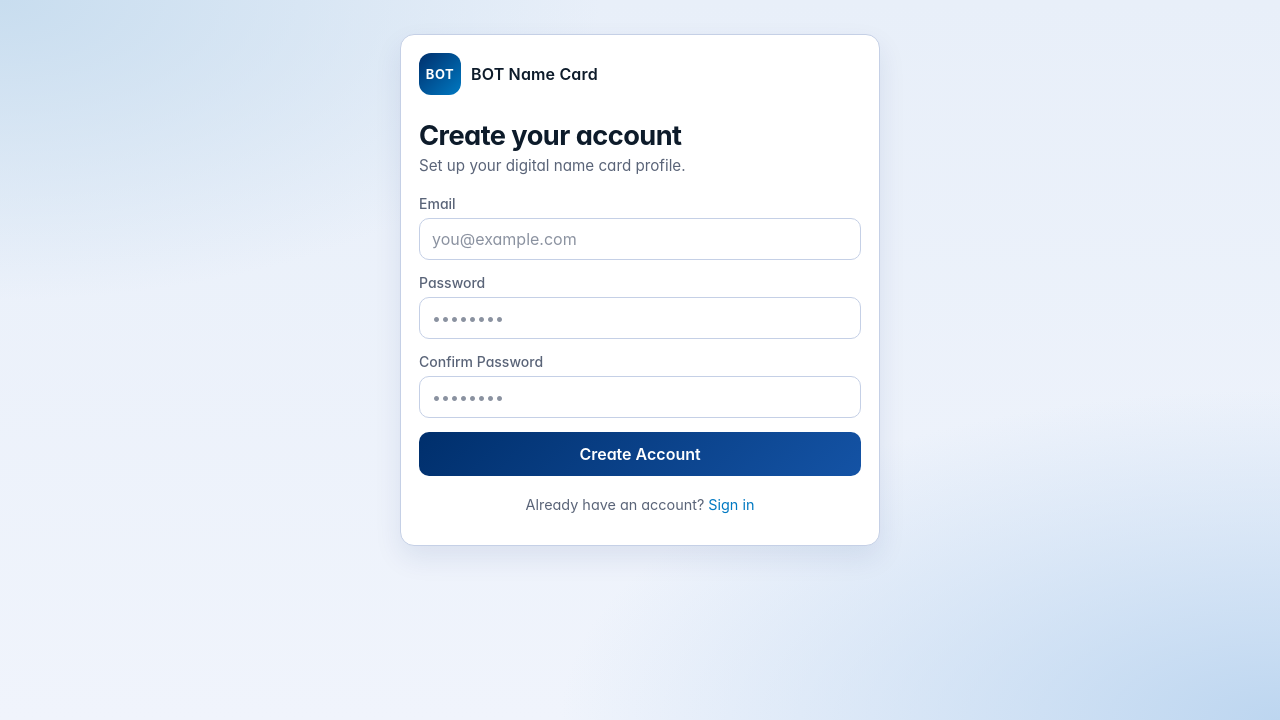
it: RegisterPage › shows error when passwords do not match
The width and height of the screenshot is (1280, 720).
Type "a@b.com" into the field labelled "Email" at (640, 239), box [419,218,861,260]
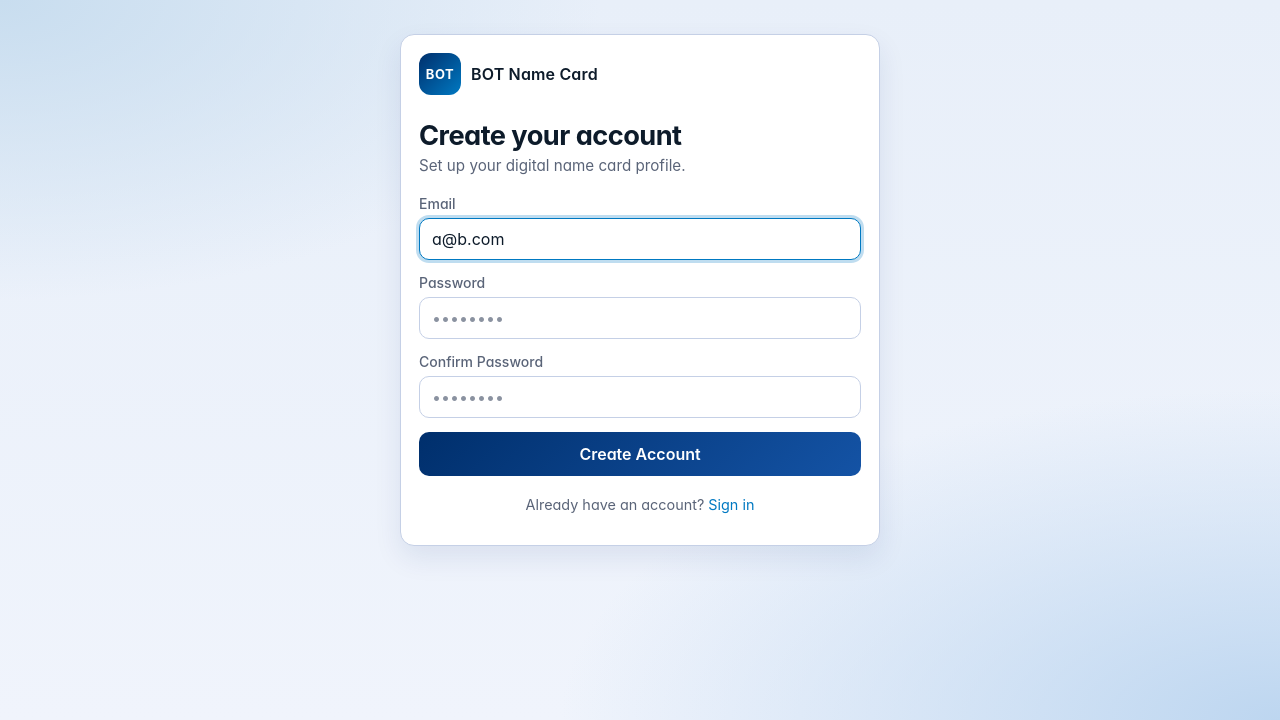
Type "password123" into the password field labelled "Password" at (640, 318), box [419,297,861,339]
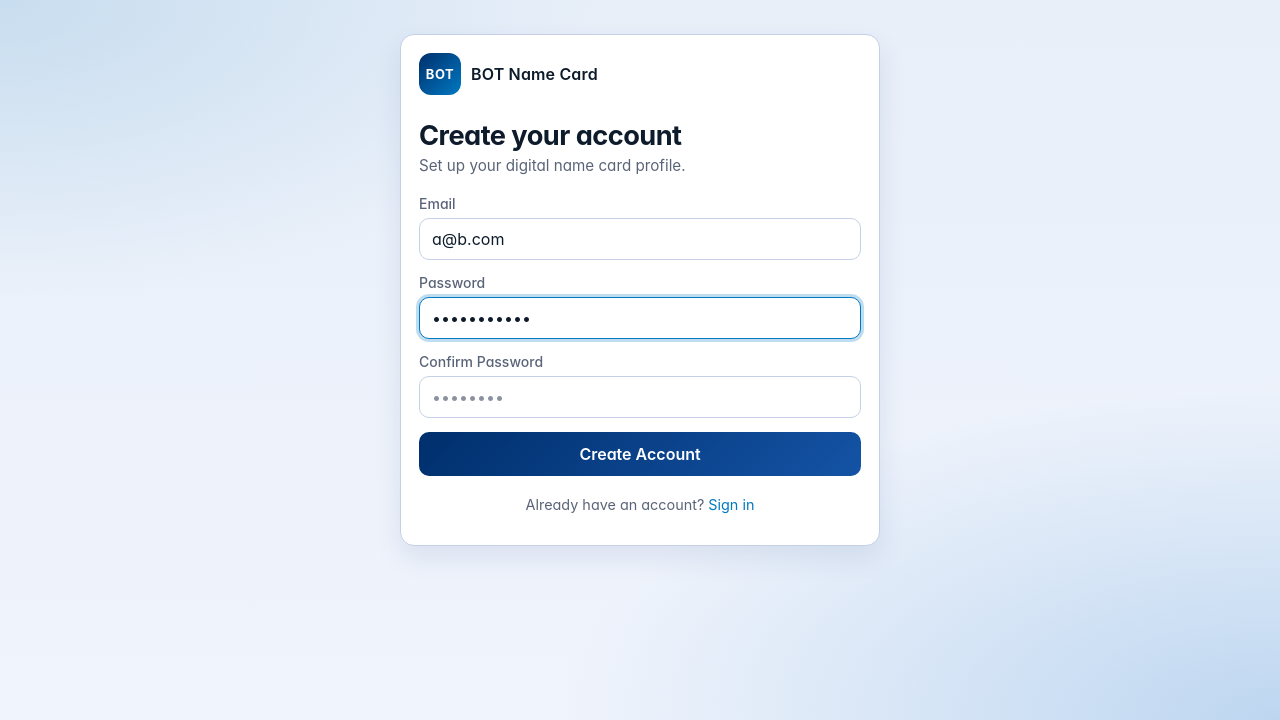
Type "different123" into the password field labelled "Confirm Password" at (640, 397), box [419,376,861,418]
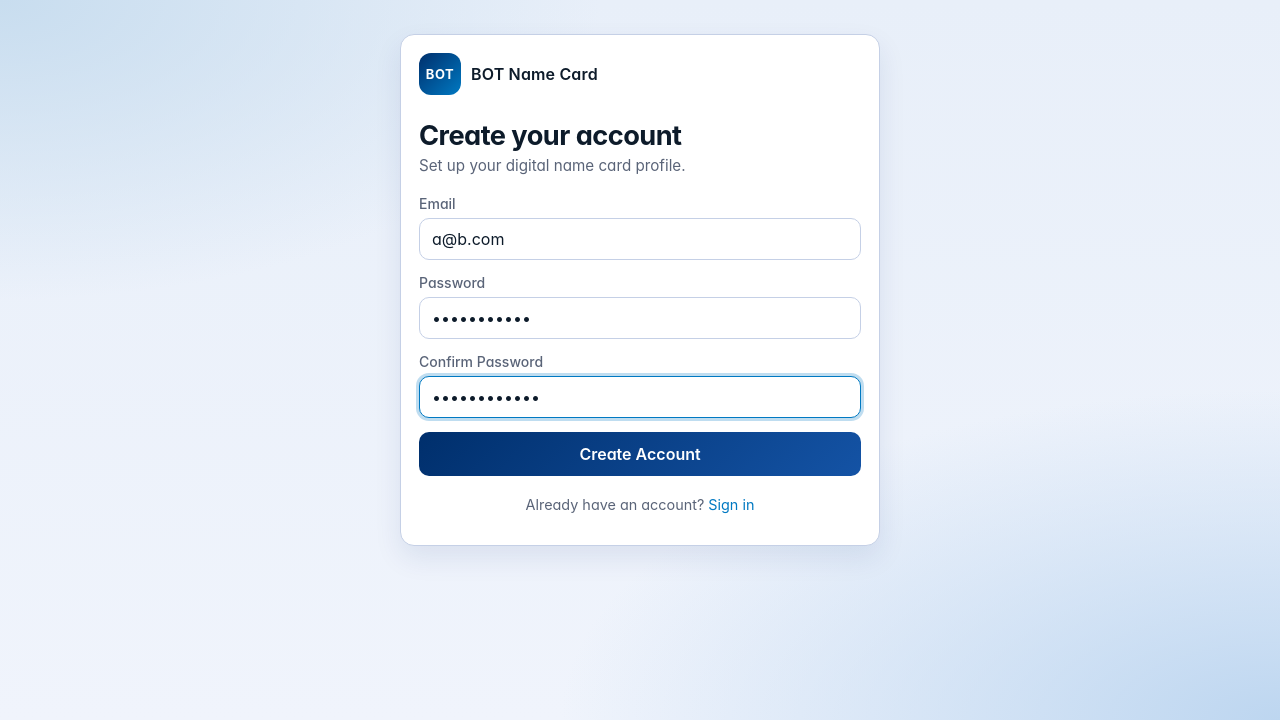
Click the button "Create Account" at (640, 454), box [419,432,861,476]
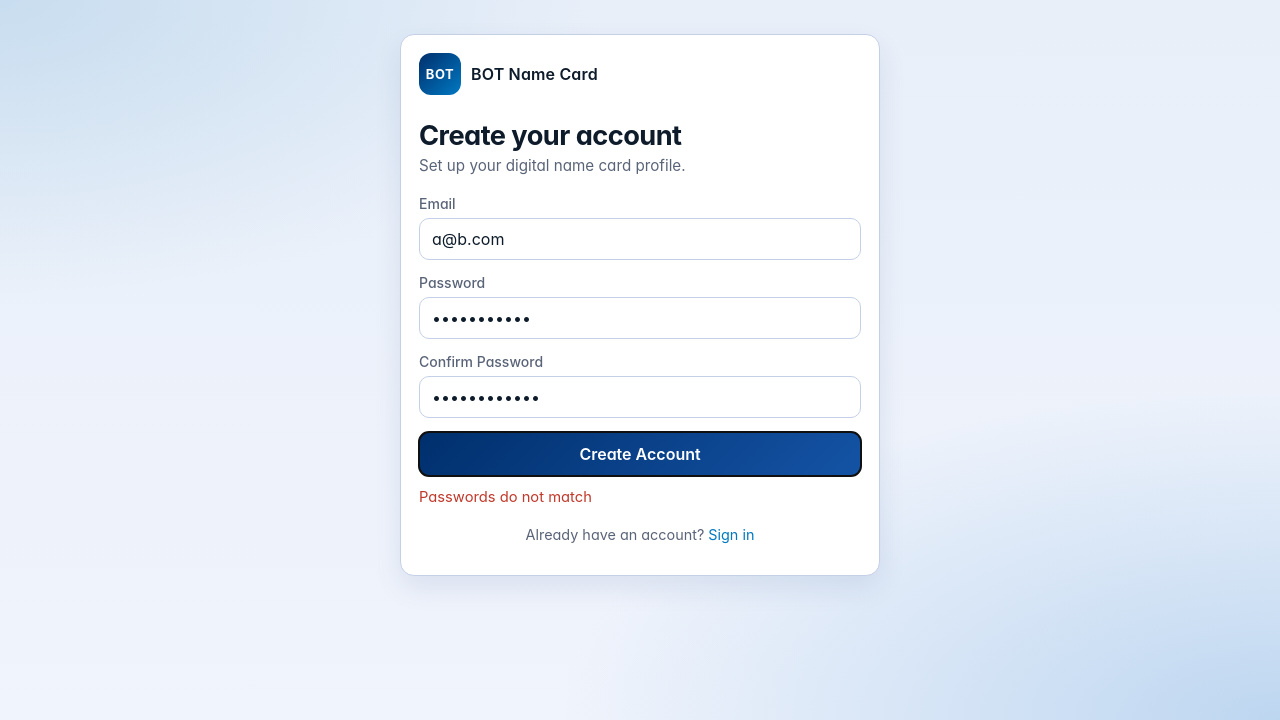
Now the text "Passwords do not match" is shown, box [419,488,592,506]
